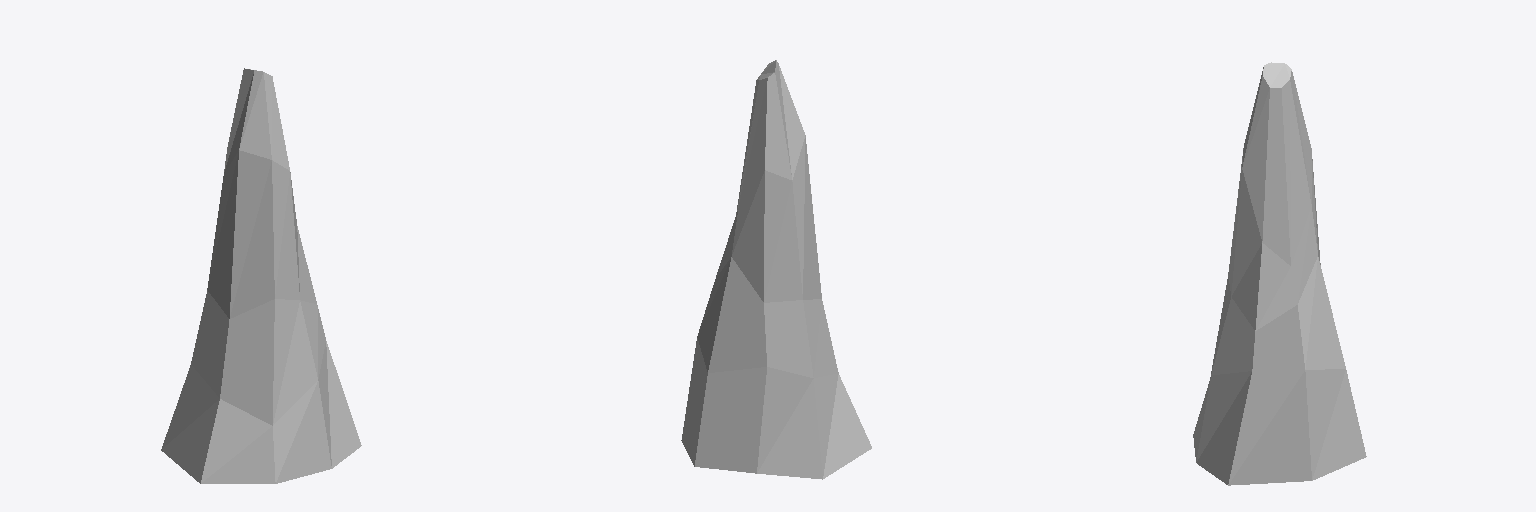
The model's file is Large Stagmite.obj.
3 renders of one model, left to right at view 1: azimuth 30°, elevation 25°; view 2: azimuth 150°, elevation 25°; view 3: azimuth 270°, elevation 25°, orthographic.
Parts seen in each view (by area): view 1: Large_Stalagmite; view 2: Large_Stalagmite; view 3: Large_Stalagmite.
Boxes of the visible parts, <box> form: Large_Stalagmite: <box>161,68,361,483</box>; Large_Stalagmite: <box>681,60,871,479</box>; Large_Stalagmite: <box>1193,62,1366,485</box>.
Size of the model in its own units: 42.03 by 95.64 by 39.47.